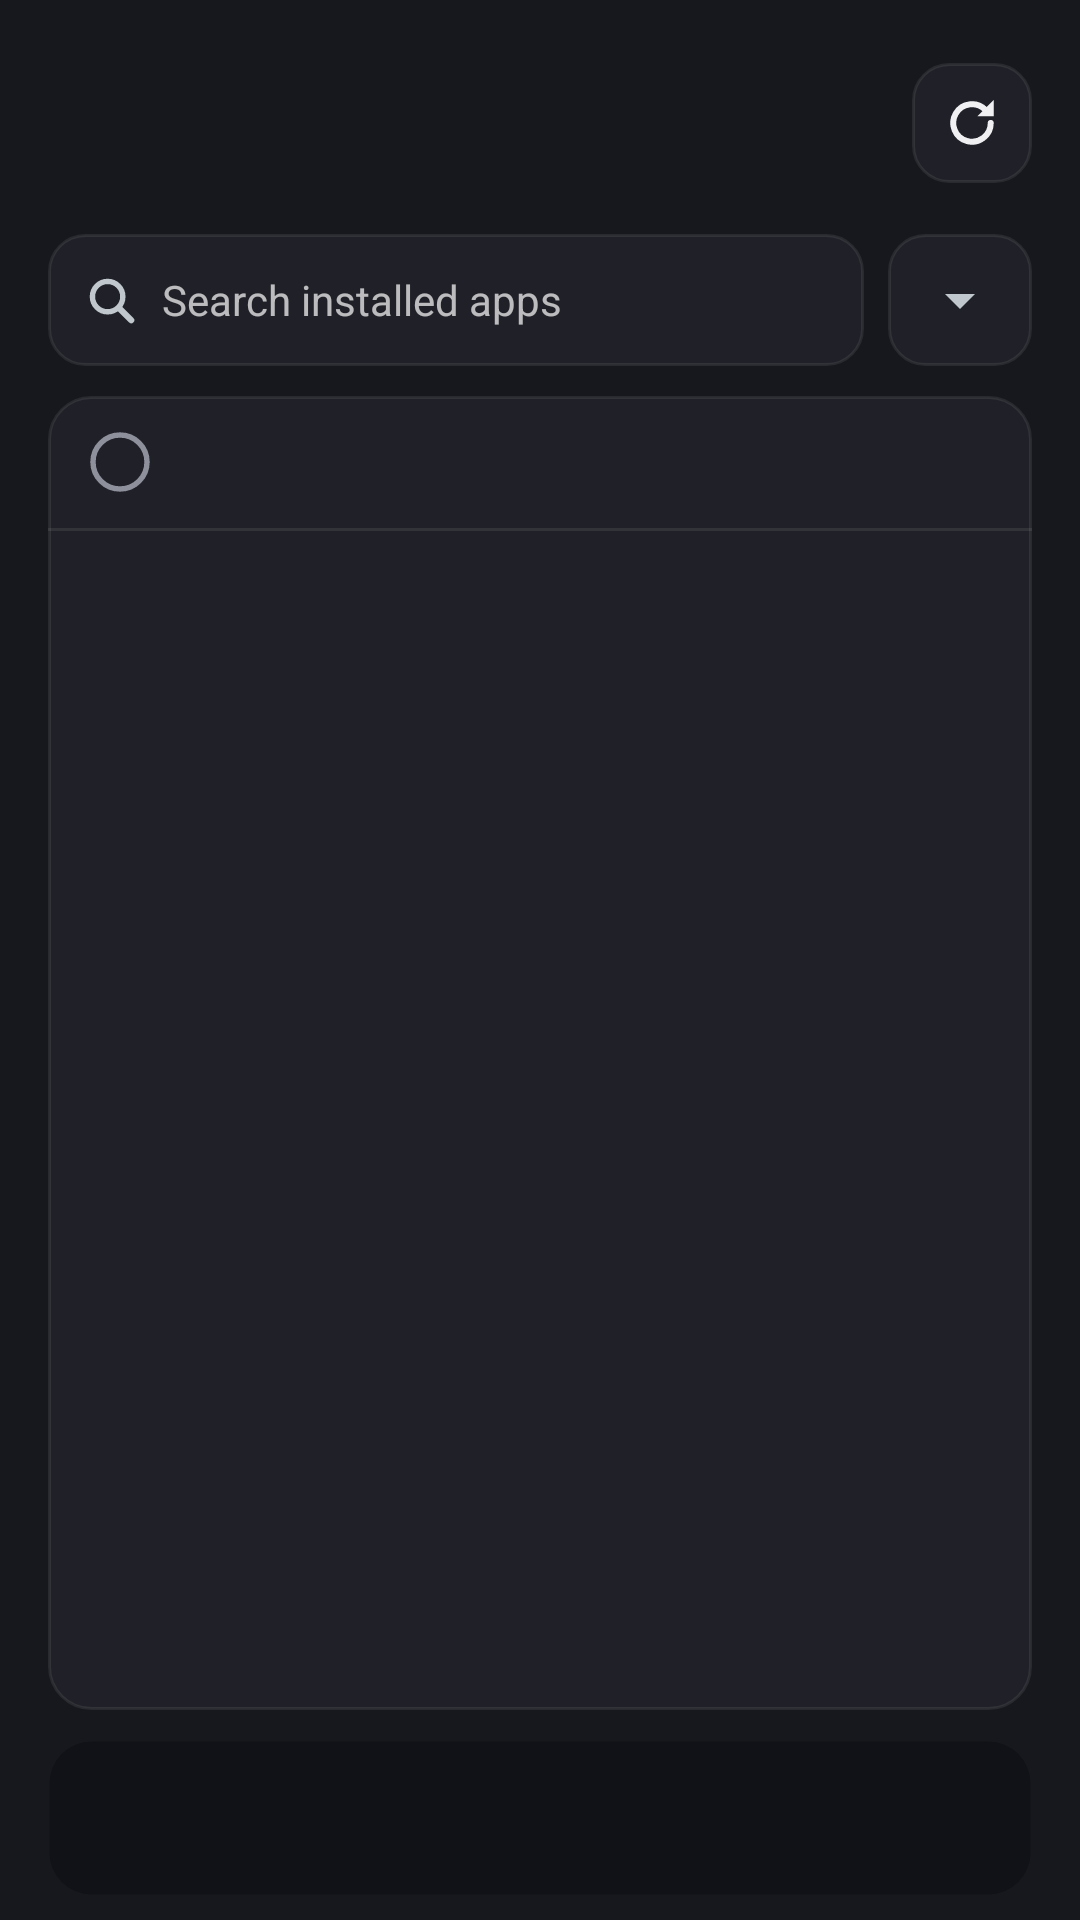

Locate icon controls on the screen. Image size 1080w x 1920h, boxes as (x1, y1, x2, y2).
Look again: (912, 63, 1032, 183)
